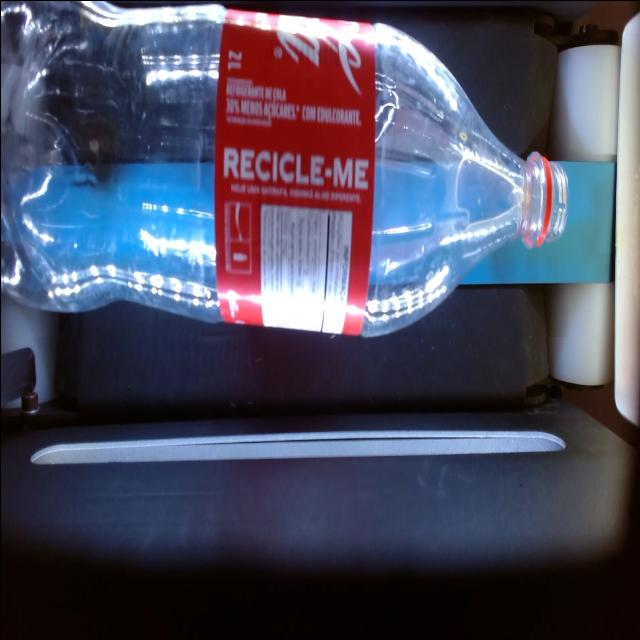bottle: (1, 2, 566, 335)
